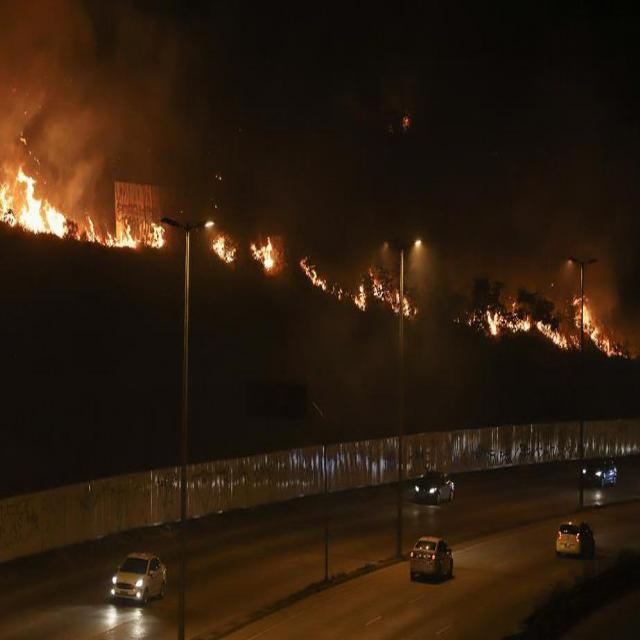Fire: (470, 304, 575, 350), (4, 165, 68, 239), (576, 298, 616, 357), (367, 268, 412, 315), (81, 214, 136, 247), (251, 232, 275, 272), (300, 258, 327, 290), (210, 235, 236, 261), (352, 282, 368, 312), (150, 222, 165, 250)
Smoke: (92, 20, 618, 168), (286, 179, 434, 248), (451, 179, 555, 275)
